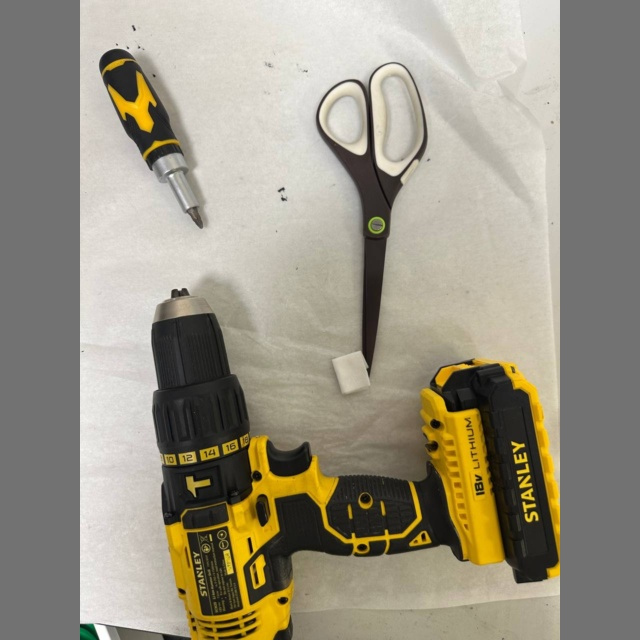drill: (152, 290, 558, 640)
scissor: (317, 62, 426, 365)
screwdriver: (99, 49, 203, 228)
